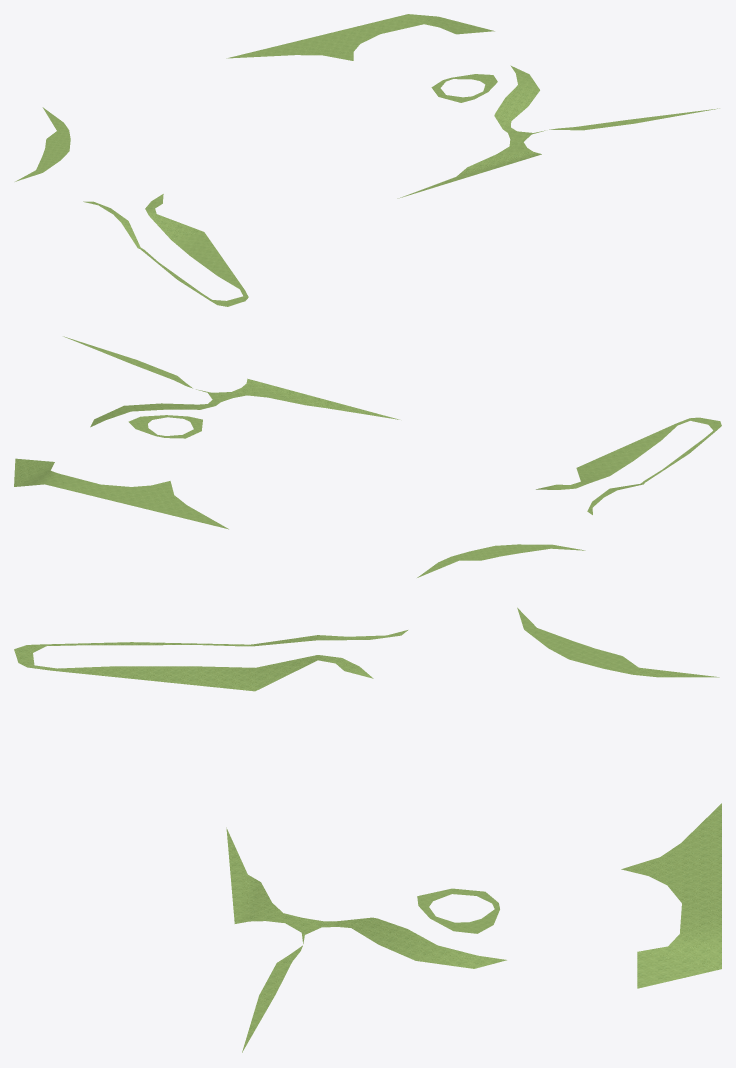
Rendered from kd_stage_135ded_4_124_exterior.glb.
3 views of the same model, one above another, from view 1: azimuth 30°, elevation 25°; view 2: azimuth 150°, elevation 25°; view 3: azimuth 270°, elevation 25° (orthographic). The views are drawn at different scales.
Parts seen in each view (by area): view 1: kd_stage_135ded_4_124_exterior; view 2: kd_stage_135ded_4_124_exterior; view 3: kd_stage_135ded_4_124_exterior.
Part boxes in pixels (bbox=[...]): kd_stage_135ded_4_124_exterior: bbox=[15, 14, 719, 306]; kd_stage_135ded_4_124_exterior: bbox=[14, 336, 721, 577]; kd_stage_135ded_4_124_exterior: bbox=[14, 607, 721, 1052].
Size of the model in its own units: 16.65 by 0.431 by 11.4.
Materials: 1 (1 with a texture image).
